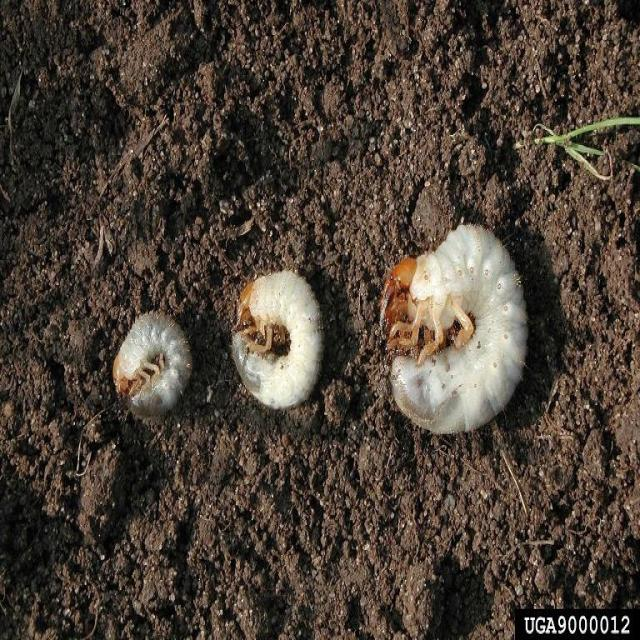grub: (380, 221, 541, 437), (228, 270, 326, 414), (111, 306, 202, 412)
